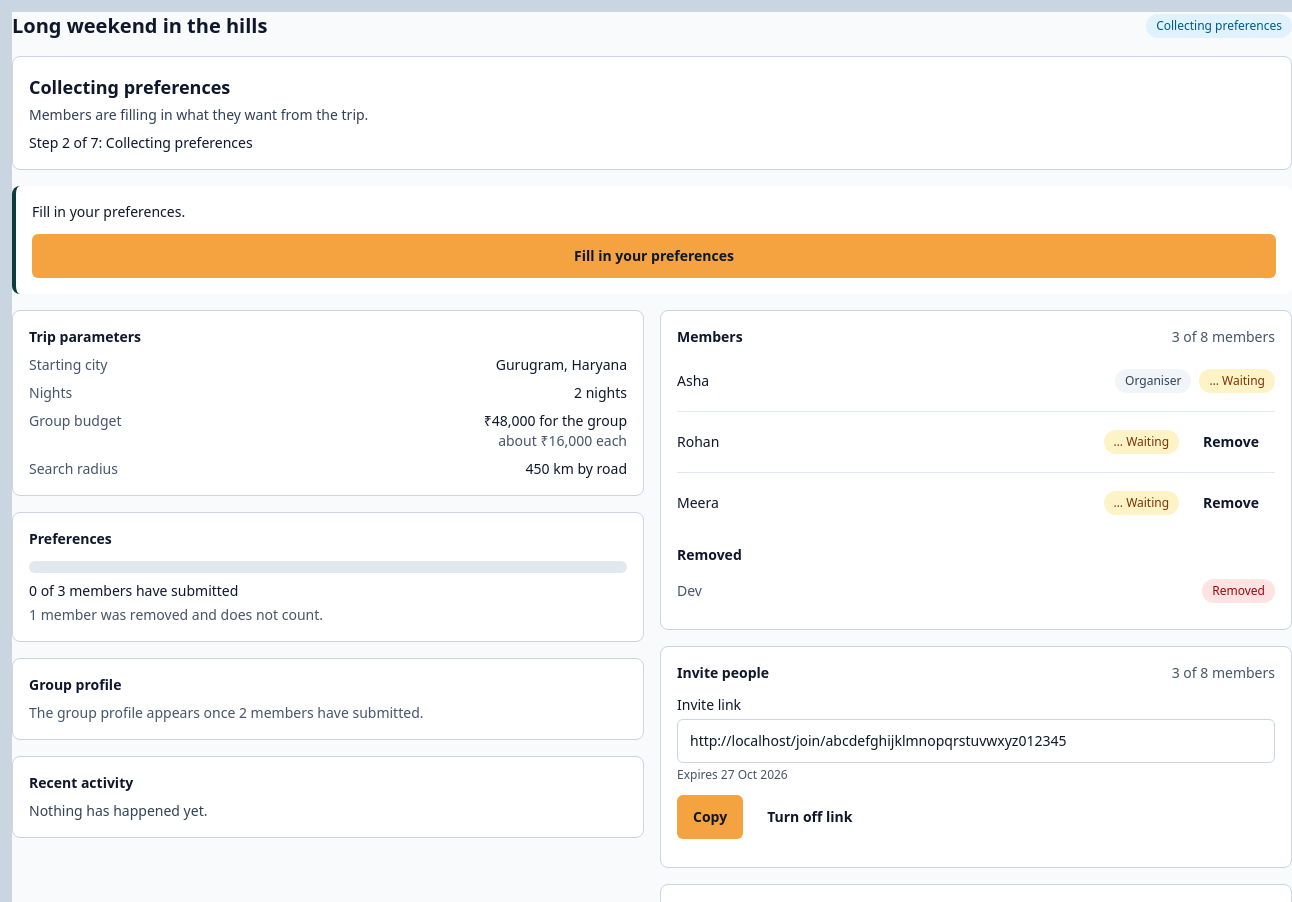
it: TripPage roster › the organiser sees Remove with an inline confirm; removed members are listed apart
Click the button with aria-label "Remove Rohan" at (1231, 442), box 1187,420 -> 1275,464
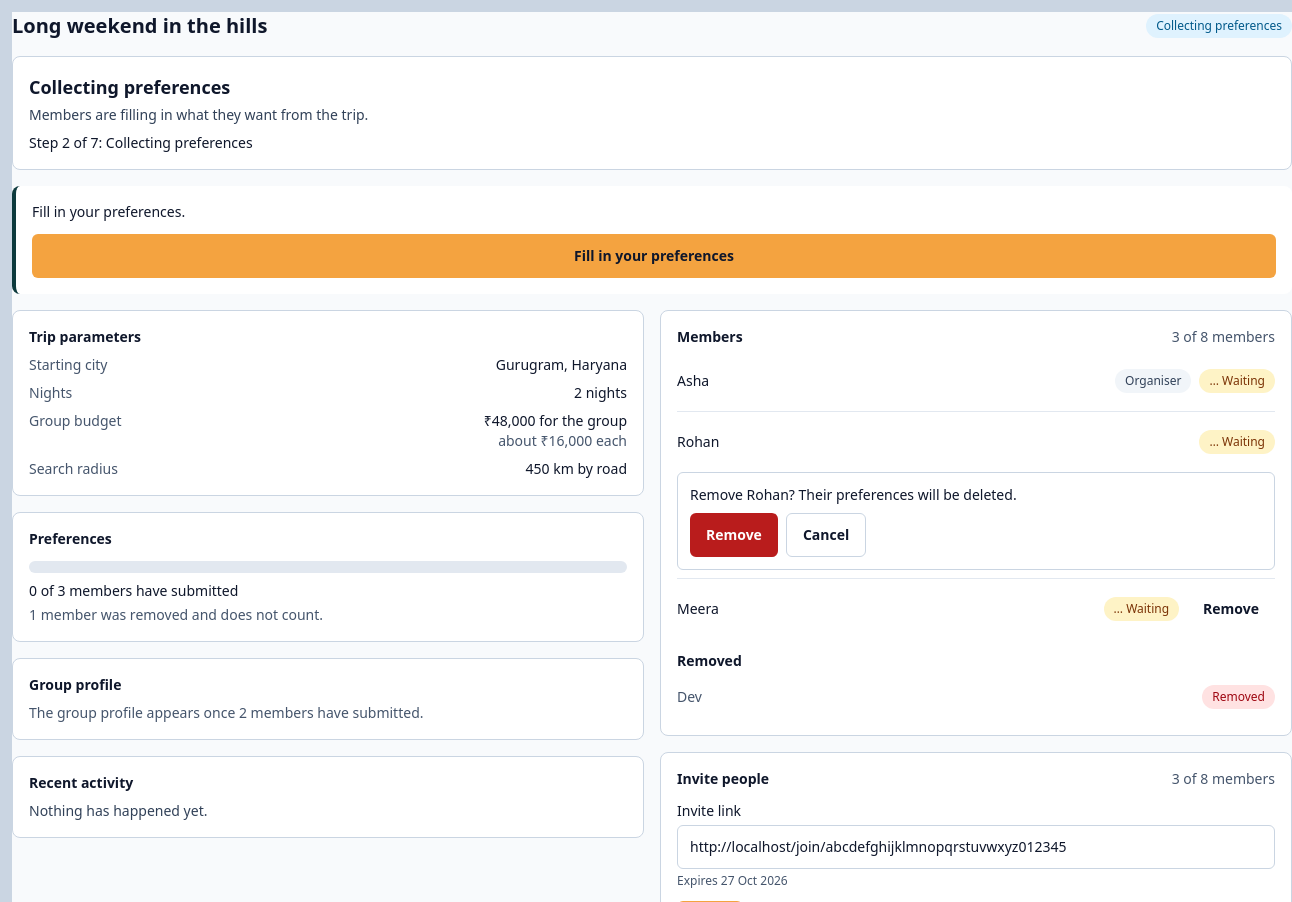
Expected: the text "Dev" is shown, 677,687 -> 702,707
Result: the text "Remove Rohan? Their preferences will be deleted." is shown at 690,485 -> 1017,504
